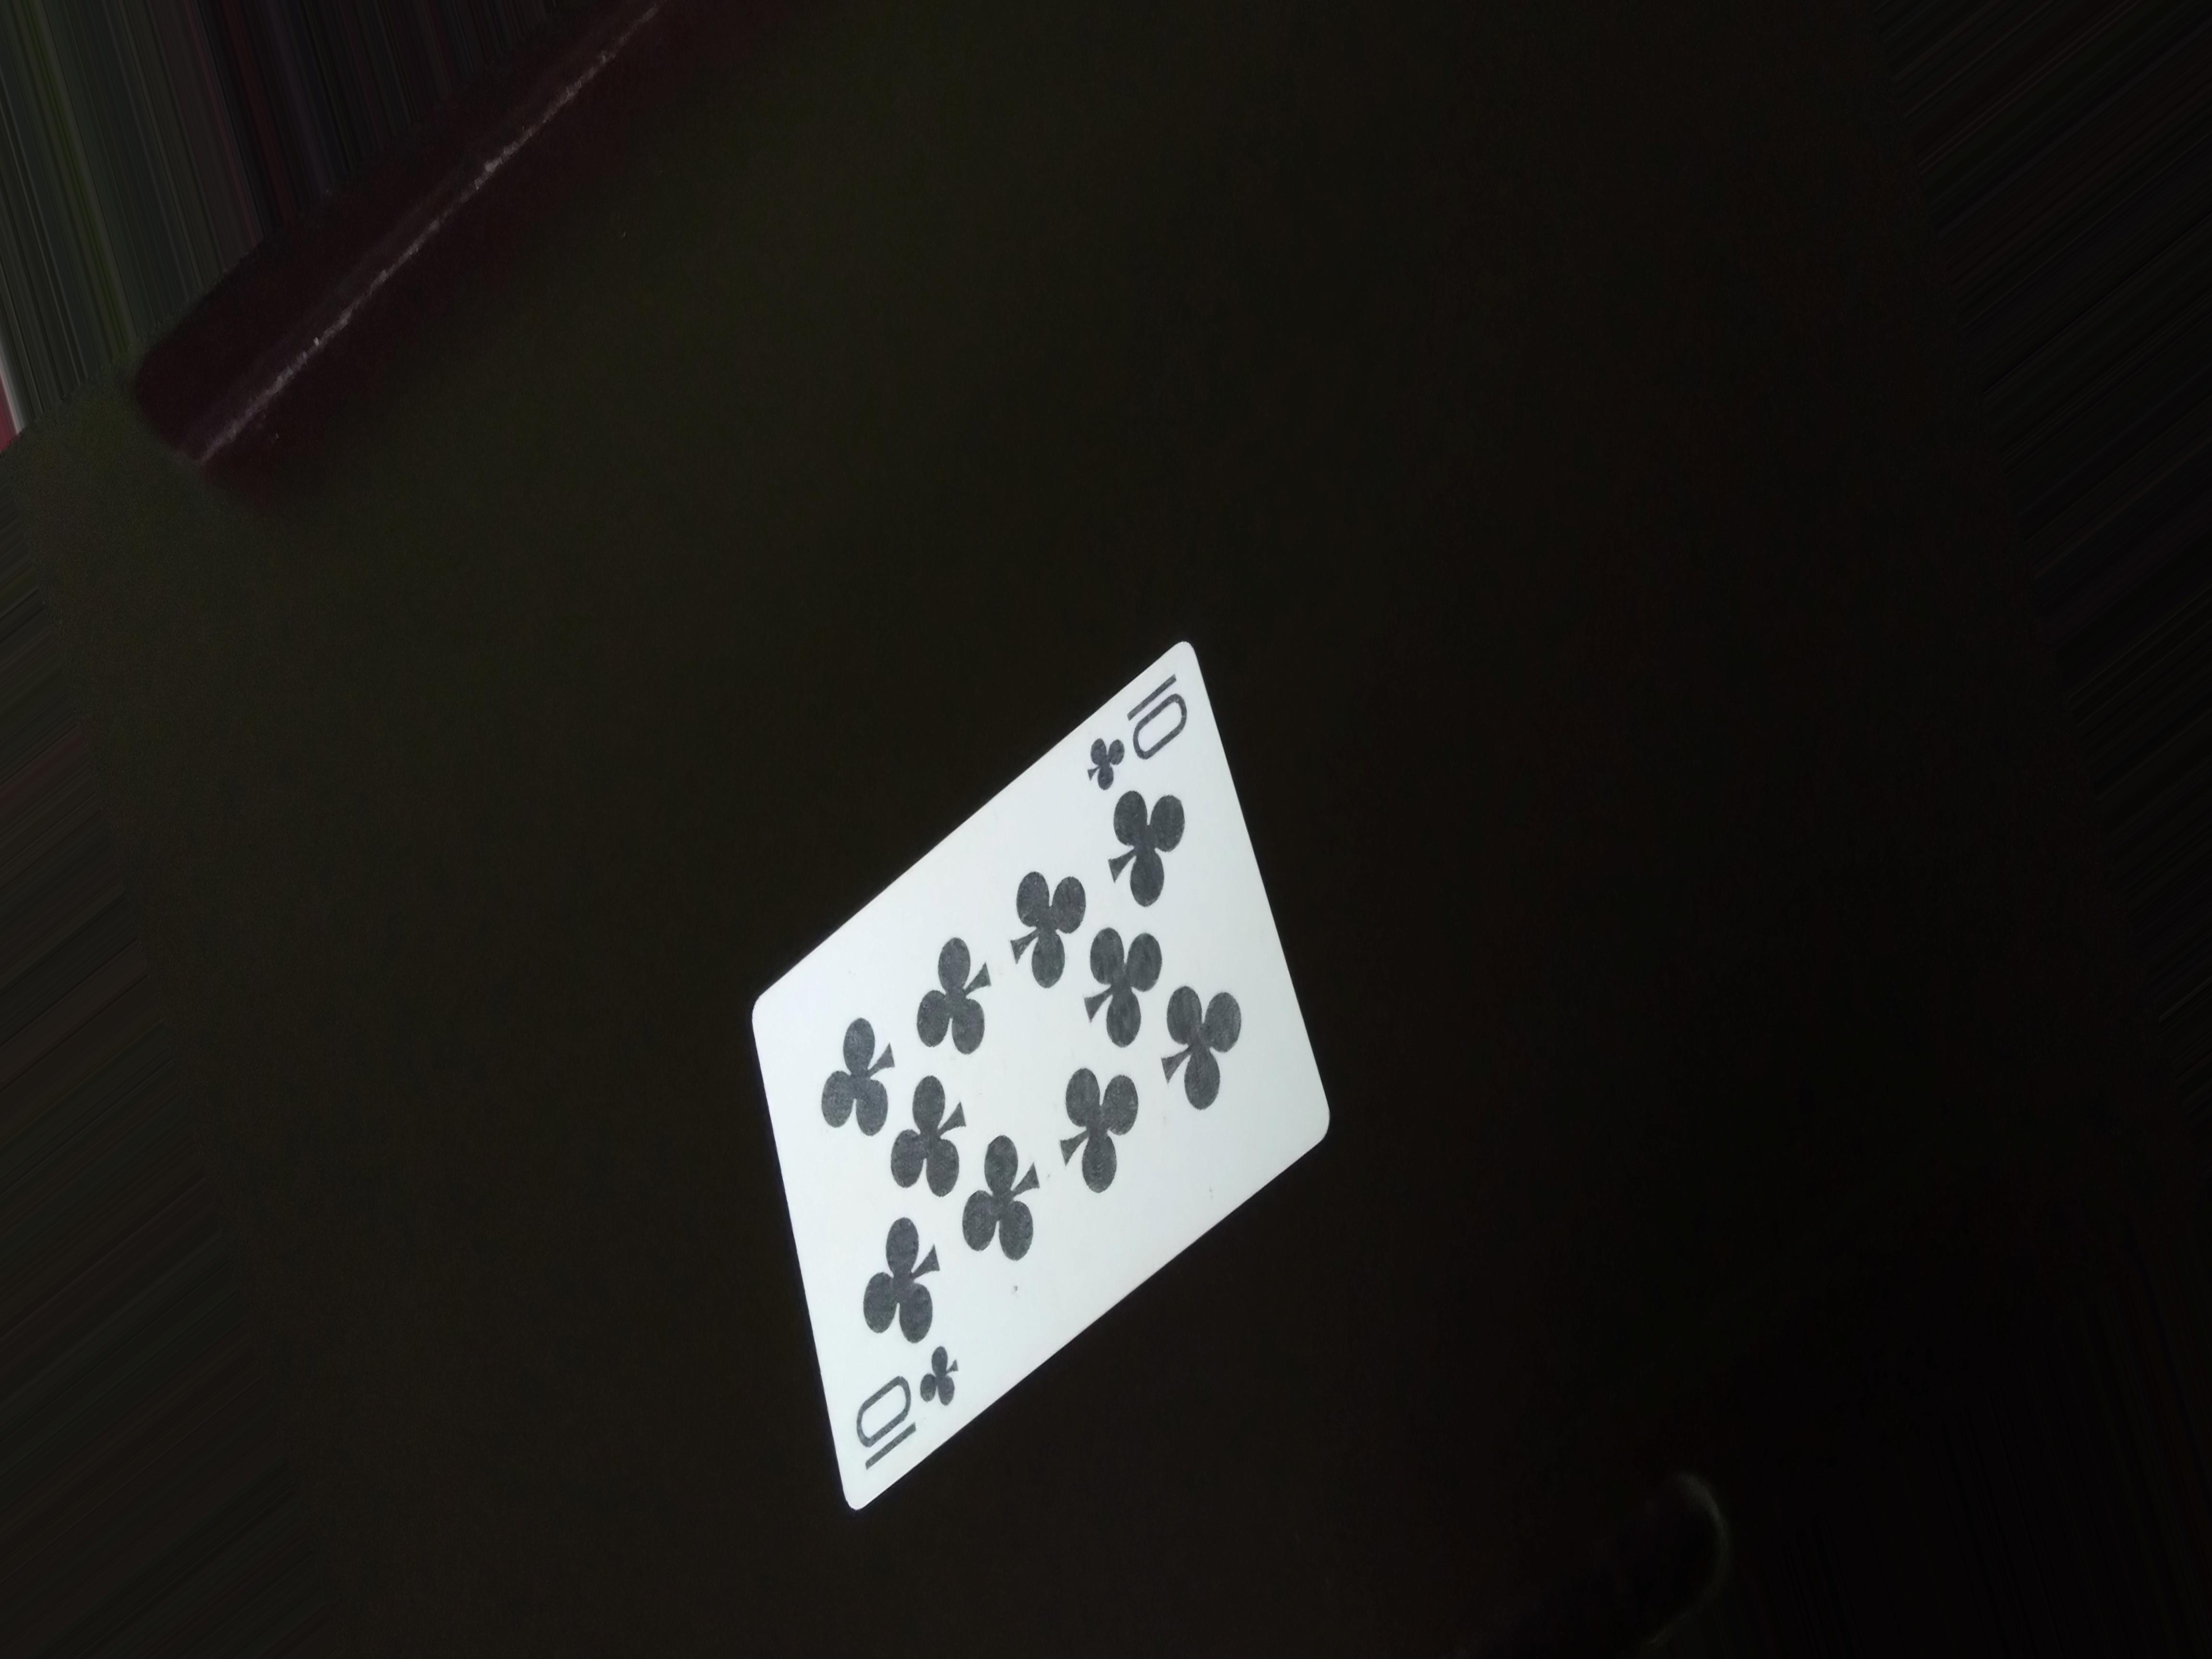10C: (1082, 662, 1191, 807)
